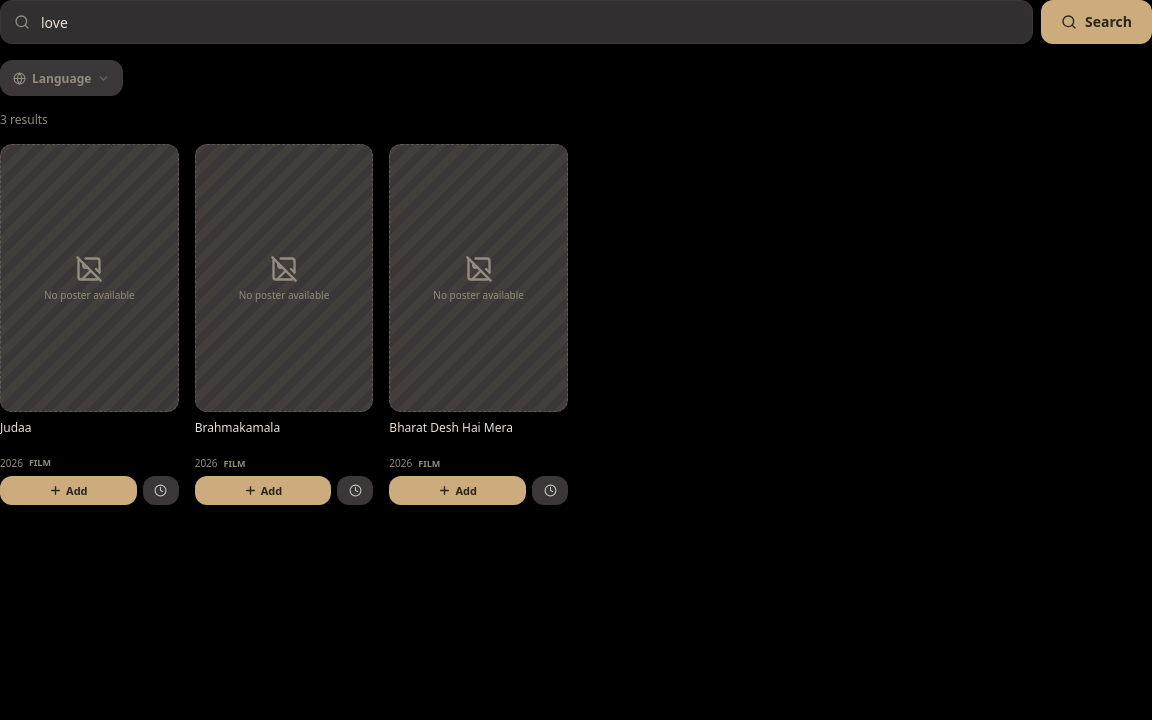
Search language filter › narrows results to the picked language and updates the count line
This screenshot has width=1152, height=720.
Expected: the heading "Judaa" is shown, [0,419,32,436]
Click the button "Language": coordinates (62, 78) [1,61,122,95]
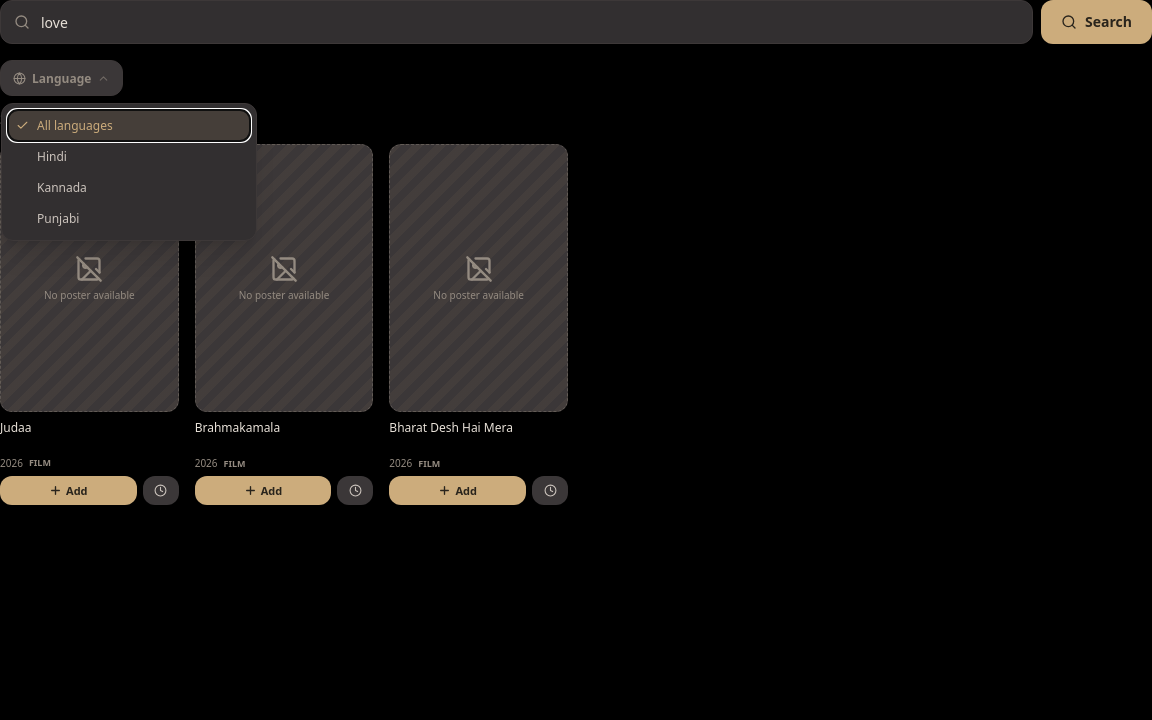
Click the button "Punjabi": coordinates (129, 218) [8,203,250,234]
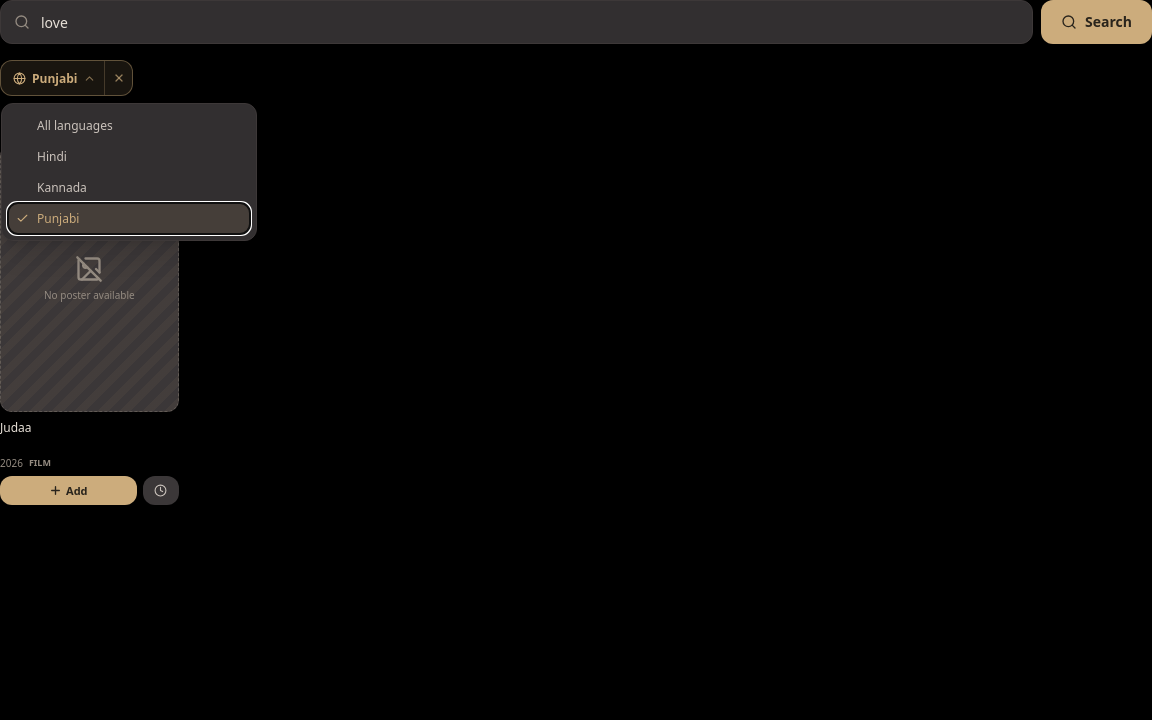
Expected: the heading "Judaa" is shown, [0,419,32,436]
Now the link "Brahmakamala" is gone
Now the text "1 result · Punjabi" is shown, box [0,111,94,128]
